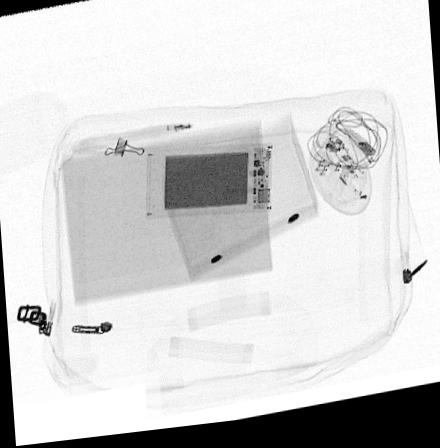Powerbank: (145, 148, 273, 222)
